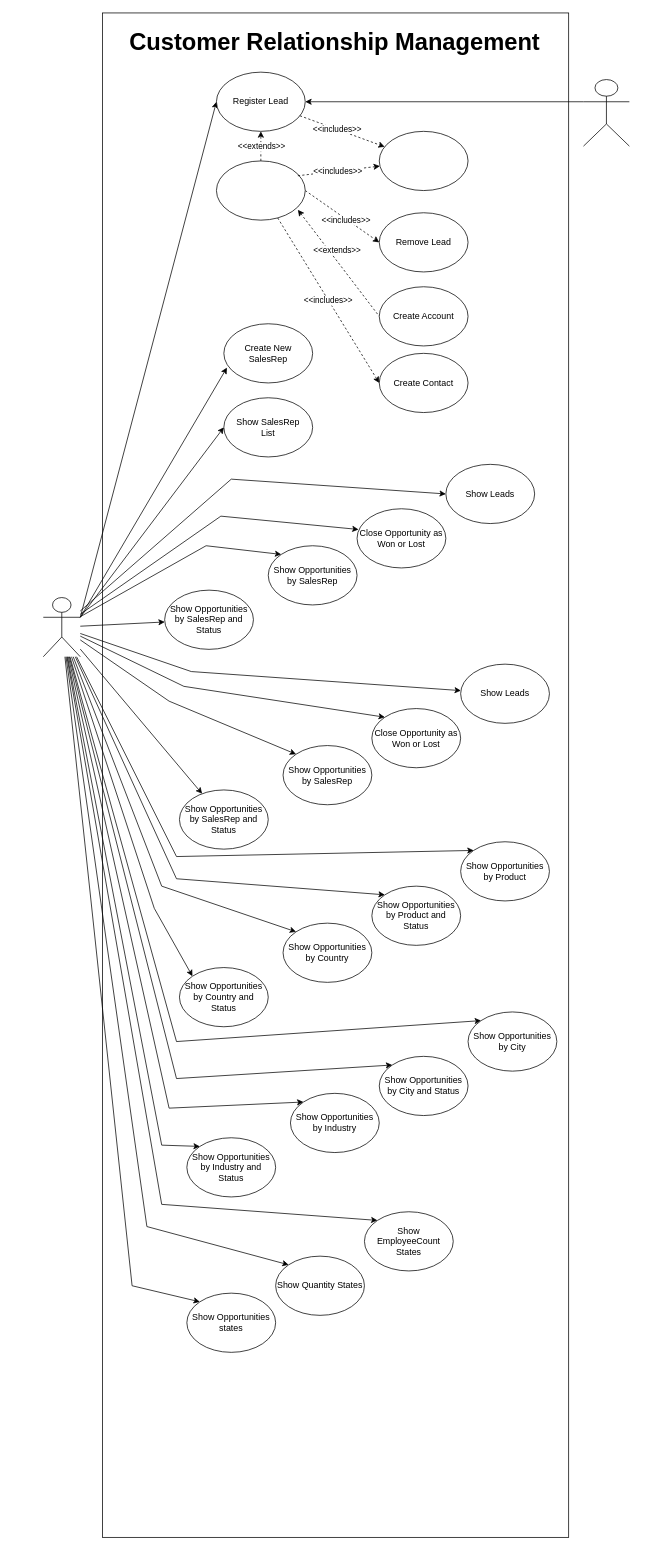
The diagram is 669 pixels wide and 1550 high, and some of its shapes have lost their labels. The centre of each missing label's shape, as x and y in pixels:
"Associate Existent SalesRep" belongs at pixel 423 161.
"Company" belongs at pixel 61 627.
"Convert to Opportunity" belongs at pixel 260 190.
"Customer" belongs at pixel 606 112.
